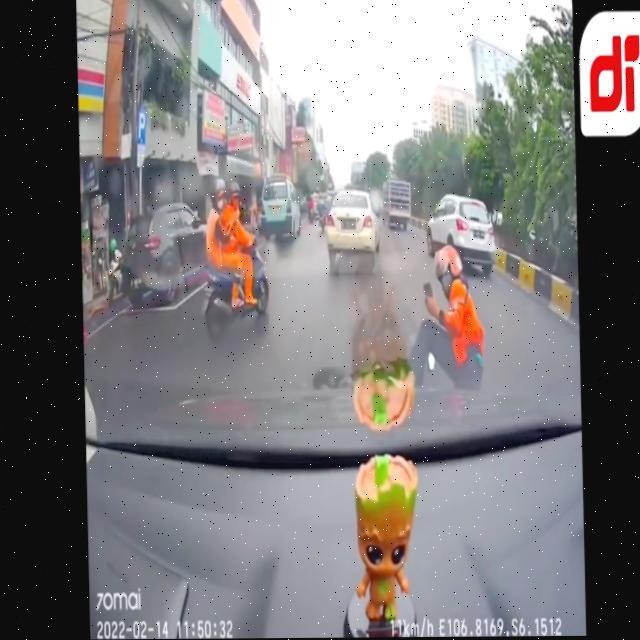normal: (178, 175, 297, 325)
single accident: (397, 252, 485, 401)
